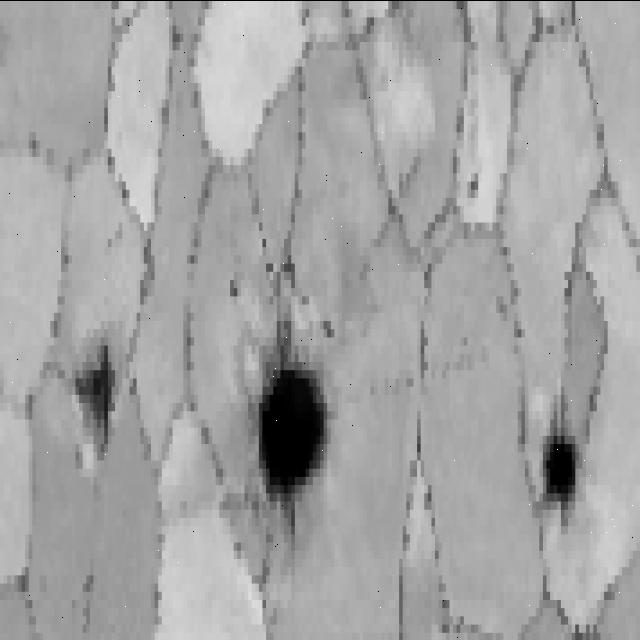good_void: (248, 306, 332, 517), (67, 314, 130, 483), (528, 382, 586, 536), (216, 253, 248, 339), (459, 161, 485, 210), (318, 300, 340, 356)
